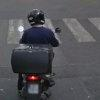Motorcycle: (5, 11, 55, 100)
